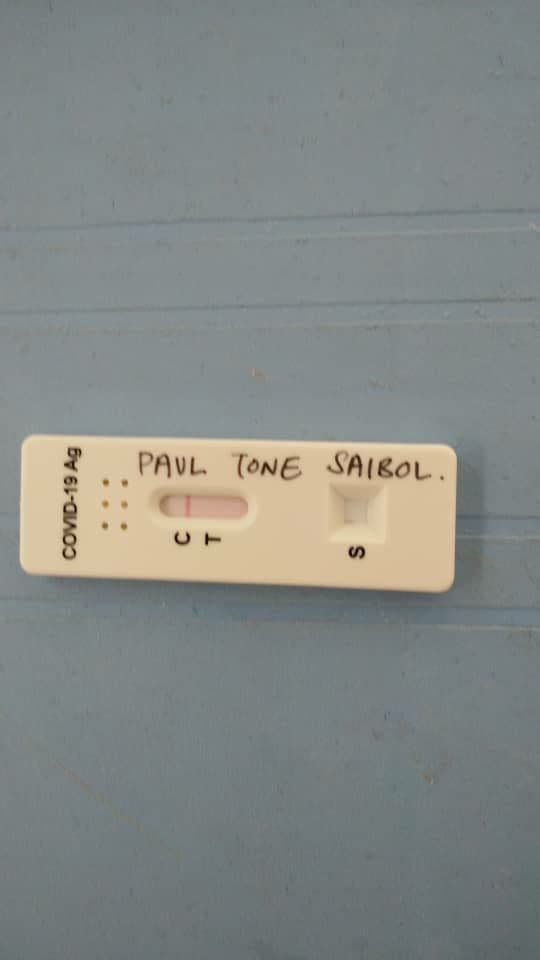rapid_test: (21, 432, 452, 594)
